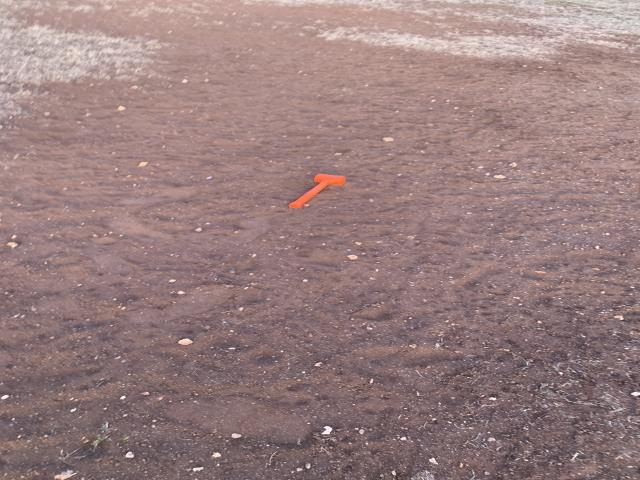hammer: (290, 173, 347, 207)
